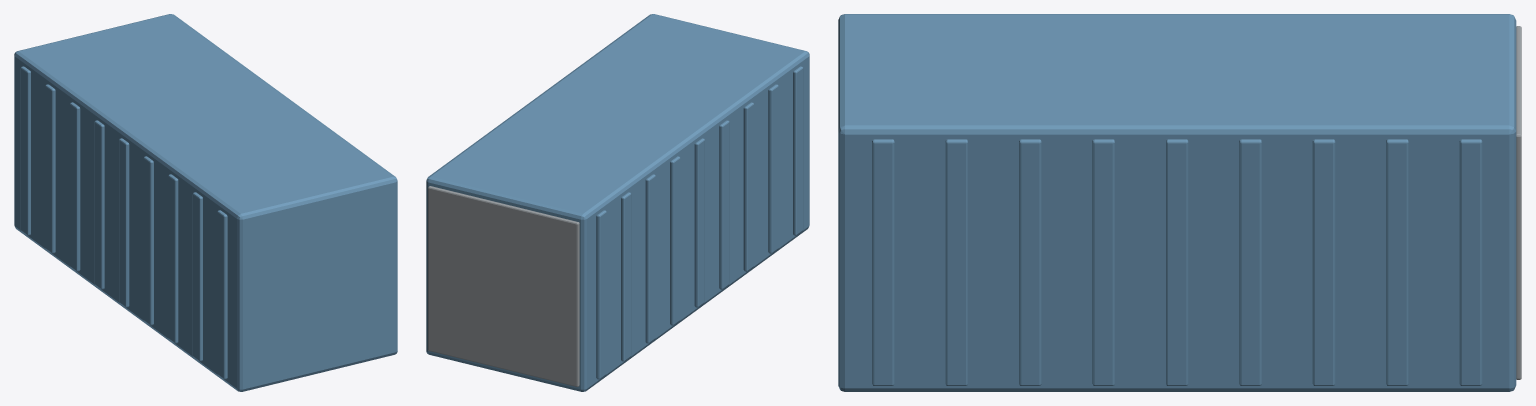
Rendered from container.glb.
3 renders of one model, left to right at view 1: azimuth 30°, elevation 25°; view 2: azimuth 150°, elevation 25°; view 3: azimuth 270°, elevation 25°, orthographic. The views are drawn at different scales.
Visible parts, largest first — view 1: container_Palette; view 2: container_Palette; view 3: container_Palette.
Boxes of the visible parts, box(x1,y1,x2,y2) form: container_Palette: box(14, 14, 397, 391); container_Palette: box(426, 14, 809, 391); container_Palette: box(838, 14, 1521, 391).
Bounding box in the file's own units: 2.56 × 2.6 × 6.05.
